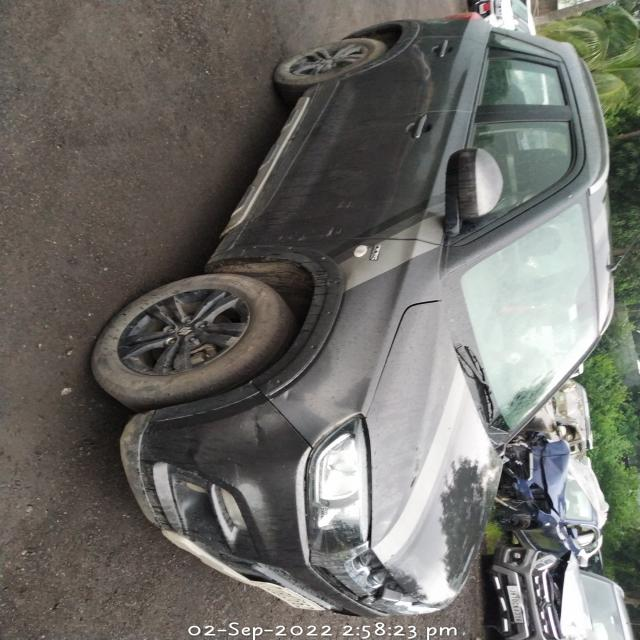damage: (243, 416, 272, 449), (279, 387, 300, 401)
